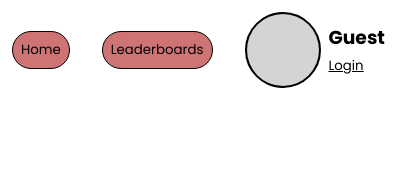
Navigation component › should not render profile-info when window location is on /login
Click the link "Login" at (346, 66), box [328,56,364,75]
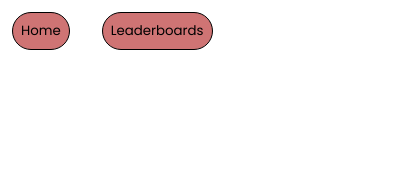
Expected: the list item "Guest Login" is gone
